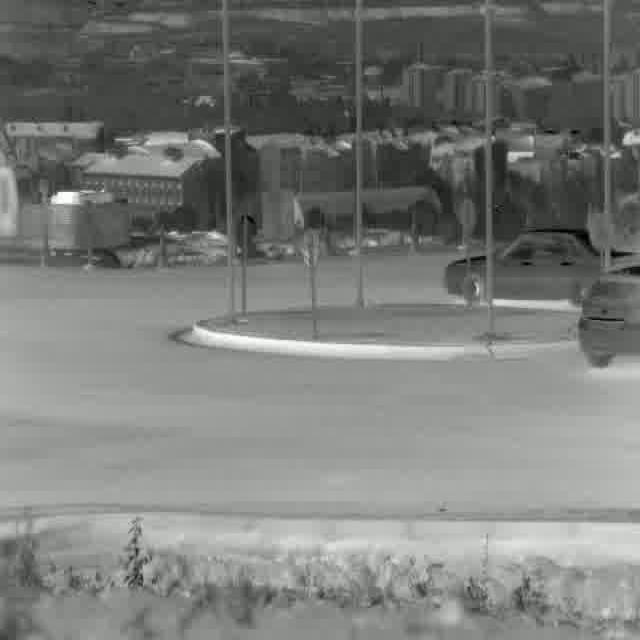Car: (440, 218, 638, 302), (573, 264, 640, 368)
